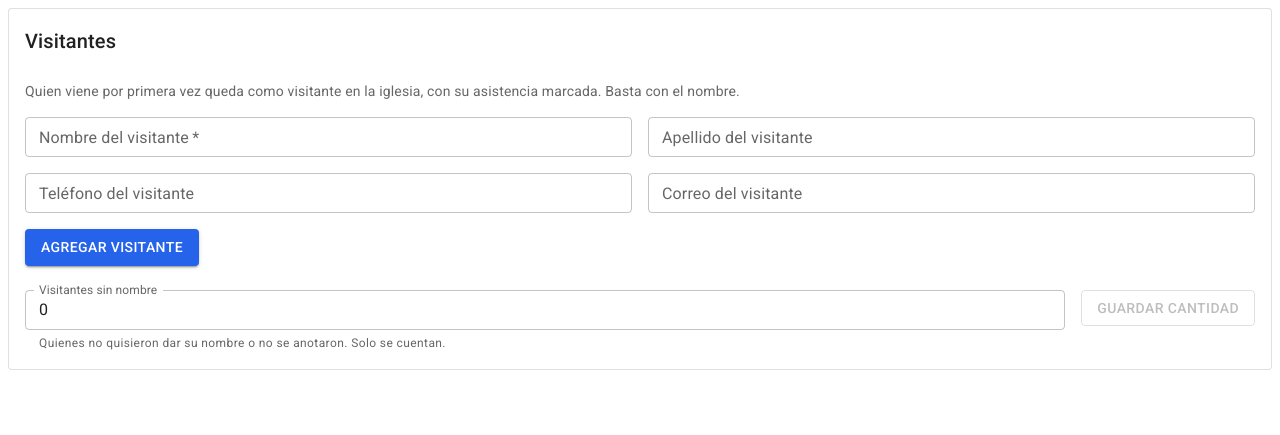
Test case: VisitorsPanel › asks for the name and a valid email instead of sending
Type "no" into the field labelled "Correo del visitante". click: (952, 193)
box: [648,173,1255,213]
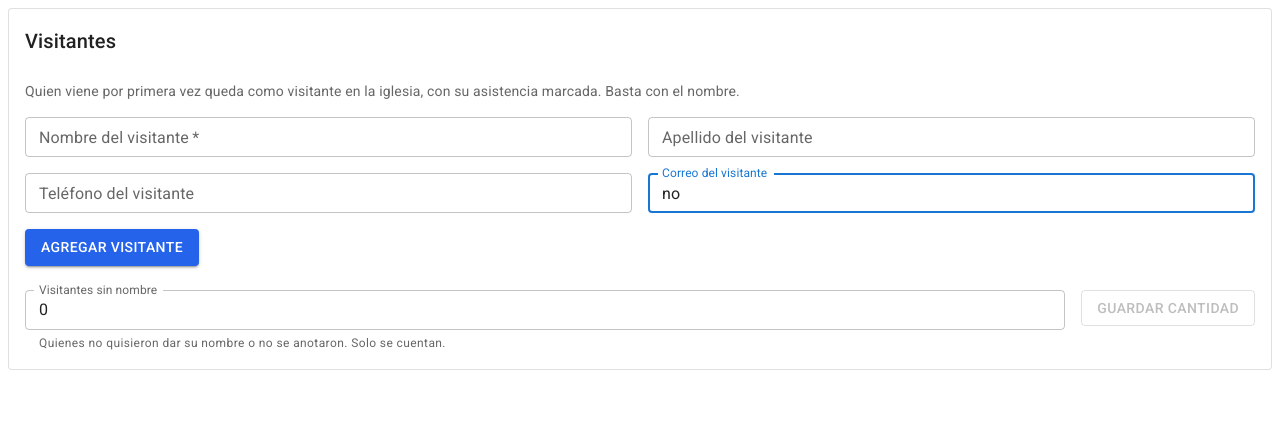
Click the button "Agregar visitante". click: (112, 247)
box: [25,229,199,266]
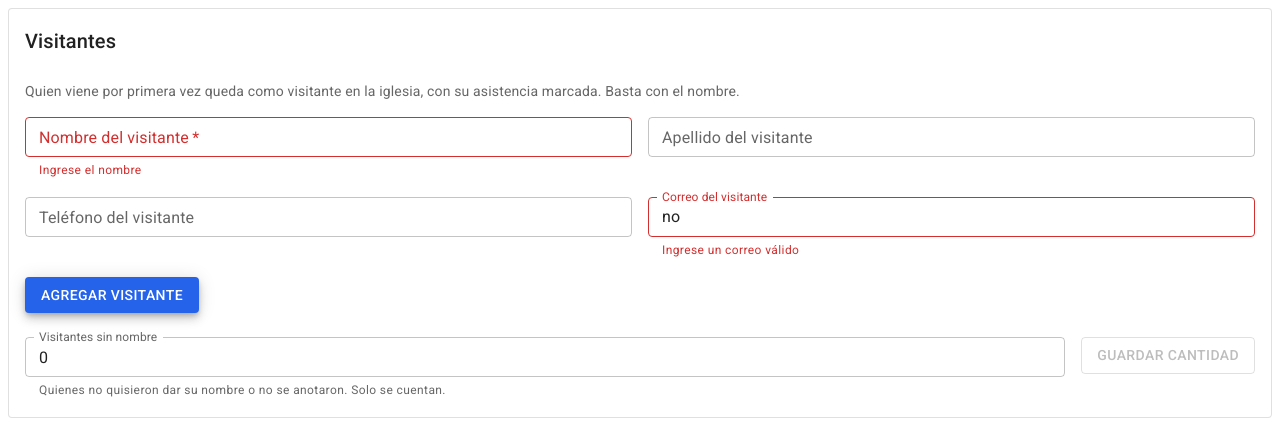
Now the text "Ingrese el nombre" is shown, box [39,163,142,177]
Now the text "Ingrese un correo válido" is shown, box [662,243,799,257]
